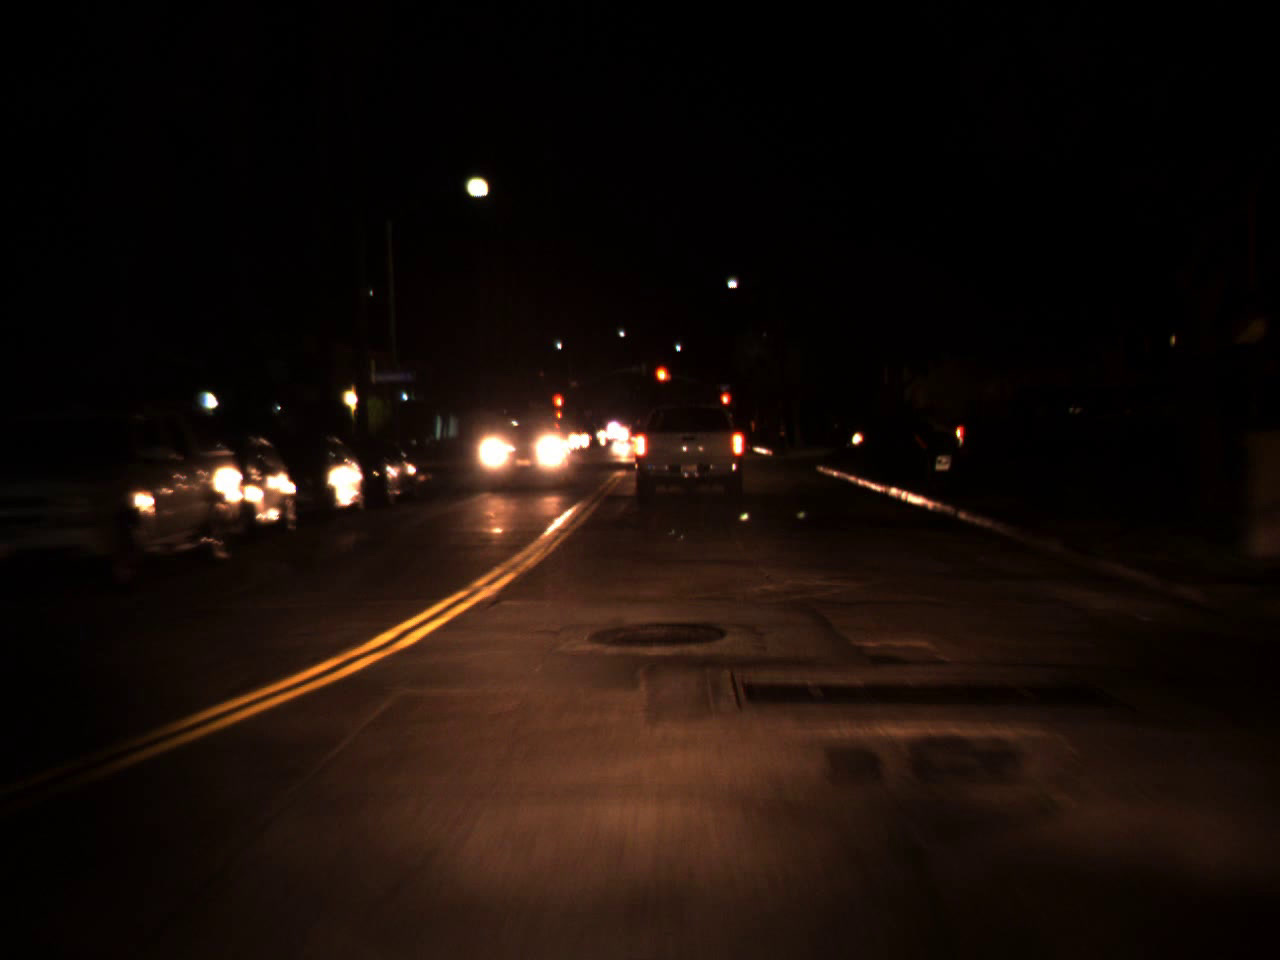stop: (654, 365, 670, 397), (551, 391, 566, 423), (720, 391, 732, 418)
